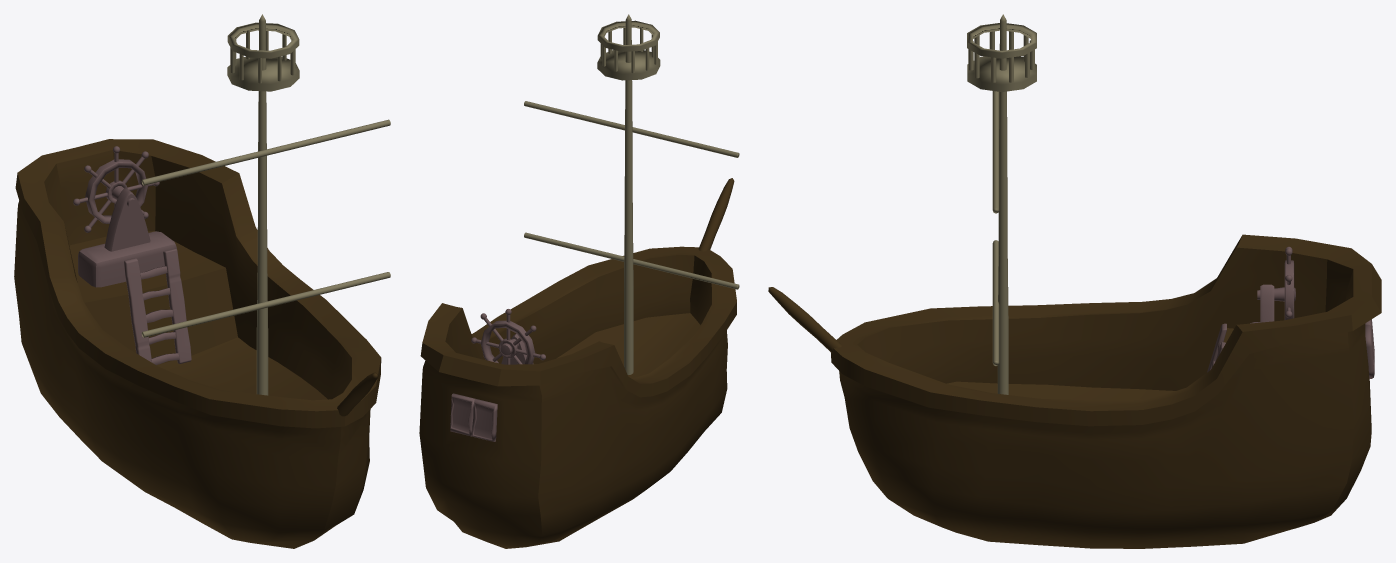
File: ShipLevel1.fbx
3 views of the same model, side by side, from view 1: azimuth 30°, elevation 25°; view 2: azimuth 150°, elevation 25°; view 3: azimuth 270°, elevation 25° (orthographic). The views are drawn at different scales.
Visible parts, largest first — view 1: pCylinder111, polySurface6, pCylinder110, pCube19, pSphere7; view 2: pCylinder111, polySurface6, pSphere7, polySurface3, polySurface4, pCylinder110; view 3: pCylinder111, polySurface6, pCylinder110, pSphere7.
Part boxes in pixels (x1,y1,x2,y2): pCylinder111: [14, 139, 381, 548]; polySurface6: [141, 14, 390, 395]; pCylinder110: [78, 186, 176, 287]; pCube19: [124, 248, 191, 365]; pSphere7: [73, 146, 159, 232]; pCylinder111: [419, 178, 736, 548]; polySurface6: [524, 14, 739, 374]; pSphere7: [471, 309, 545, 364]; polySurface3: [472, 399, 497, 441]; polySurface4: [450, 393, 475, 436]; pCylinder110: [500, 333, 533, 364]; pCylinder111: [768, 234, 1381, 548]; polySurface6: [967, 14, 1036, 394]; pCylinder110: [1250, 284, 1295, 323]; pSphere7: [1284, 246, 1294, 319].
Size of the model in its own units: 2.91 by 5.99 by 6.26.
